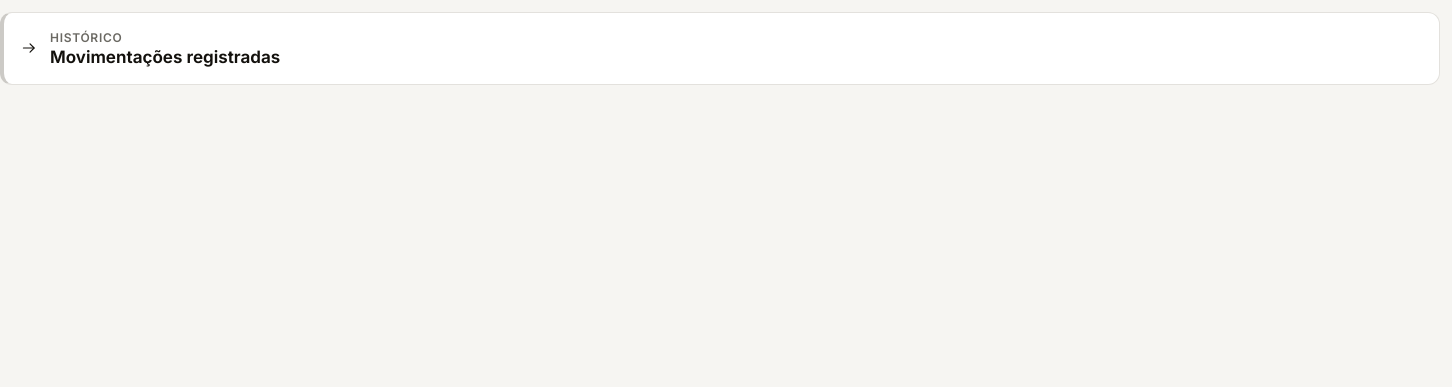
Test: histórico de movimentações › acumula as páginas seguintes em vez de trocar a lista
The width and height of the screenshot is (1452, 387).
Click the button "Histórico Movimentações registradas": x=86, y=38 [4, 13, 1439, 84]
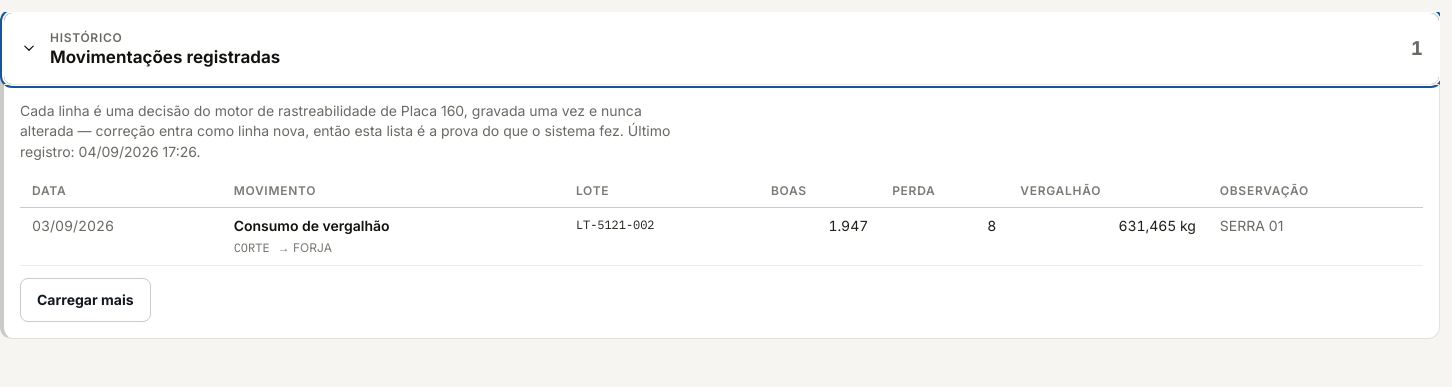
expect the table is shown: met, box [20, 174, 1423, 266]
Click the button "Carregar mais": x=85, y=300 [20, 278, 150, 322]
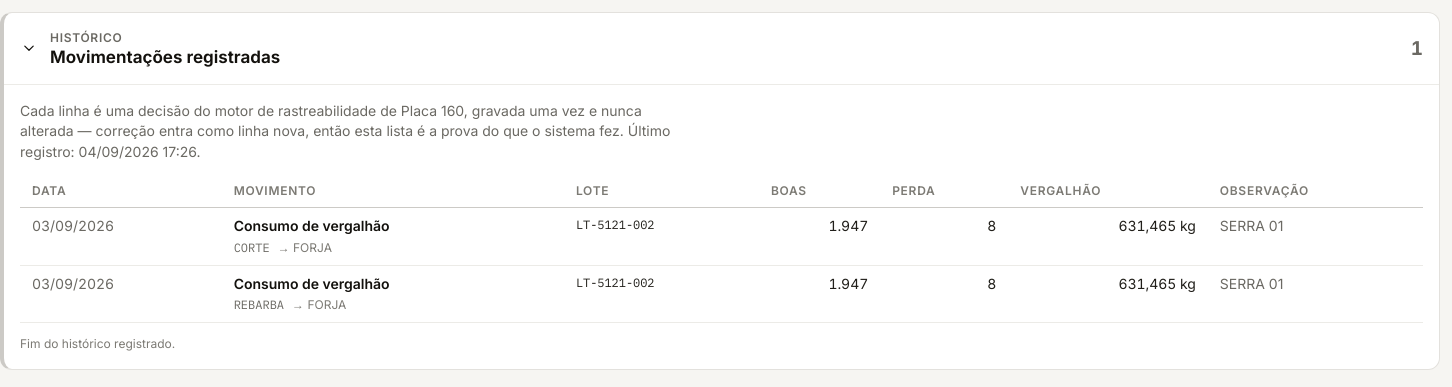
expect the number of rows is 3: met, box [20, 174, 1423, 208]; [20, 208, 1423, 265]; [20, 265, 1423, 323]
